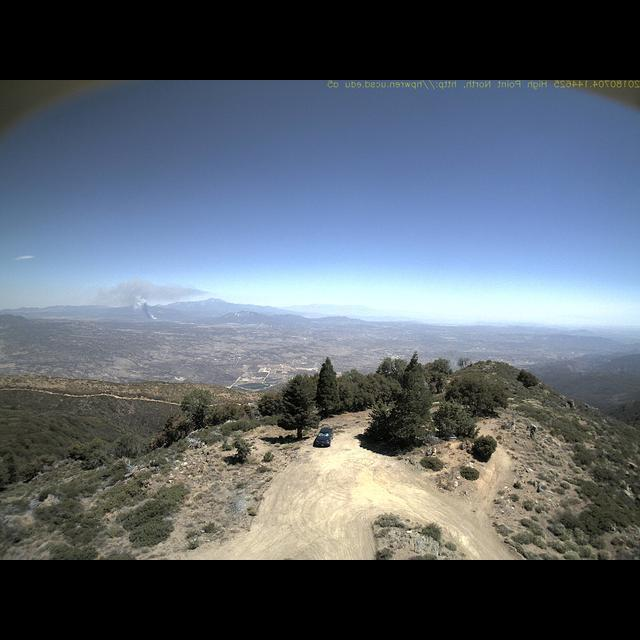Smoke: (93, 278, 210, 324)
